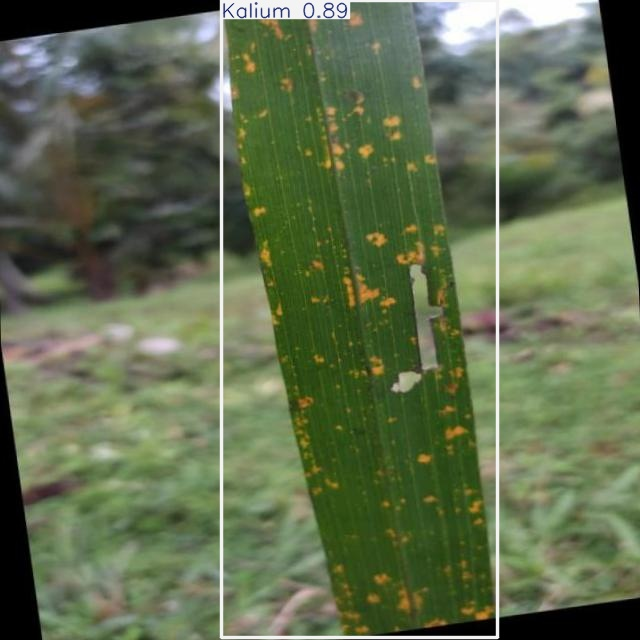Kalium: (222, 0, 497, 637)
